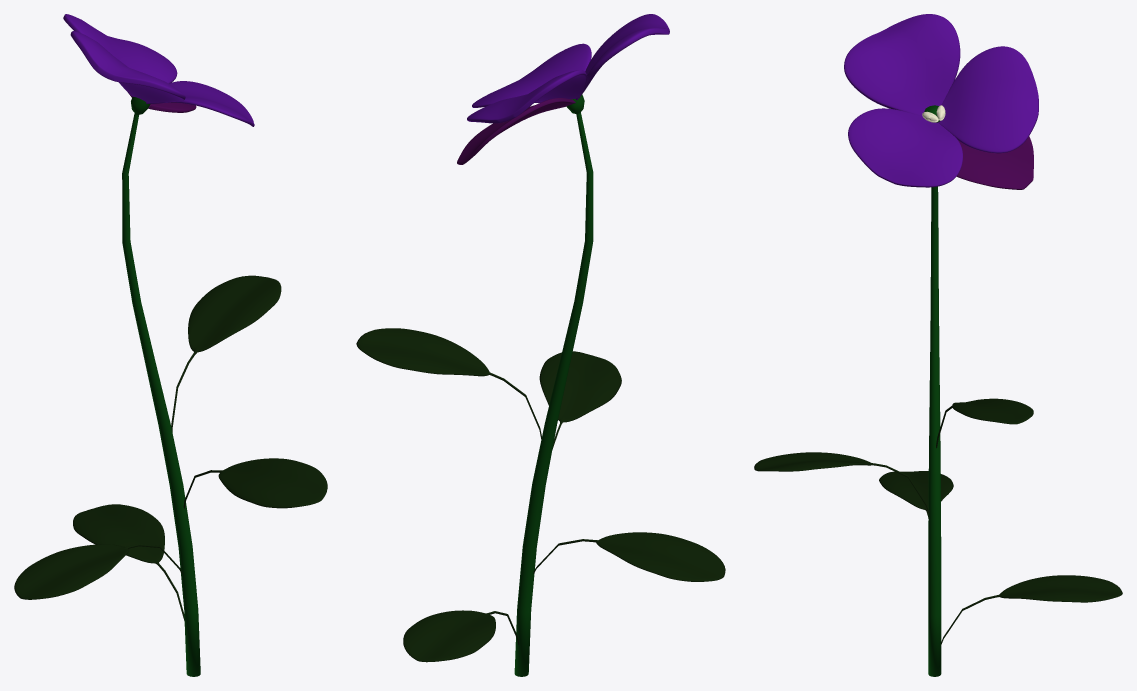
File: Wild Pansy.fbx
3 views of the same model, side by side, from view 1: azimuth 30°, elevation 25°; view 2: azimuth 150°, elevation 25°; view 3: azimuth 270°, elevation 25° (orthographic). The views are drawn at different scales.
Parts seen in each view (by area): view 1: Circle; view 2: Circle; view 3: Circle.
Part boxes in pixels (left/top/right/bottom): Circle: left=14, top=14, right=327, bottom=676; Circle: left=356, top=14, right=725, bottom=676; Circle: left=754, top=14, right=1122, bottom=676.
Bounding box in the file's own units: 6.88 × 14.23 × 7.83.
